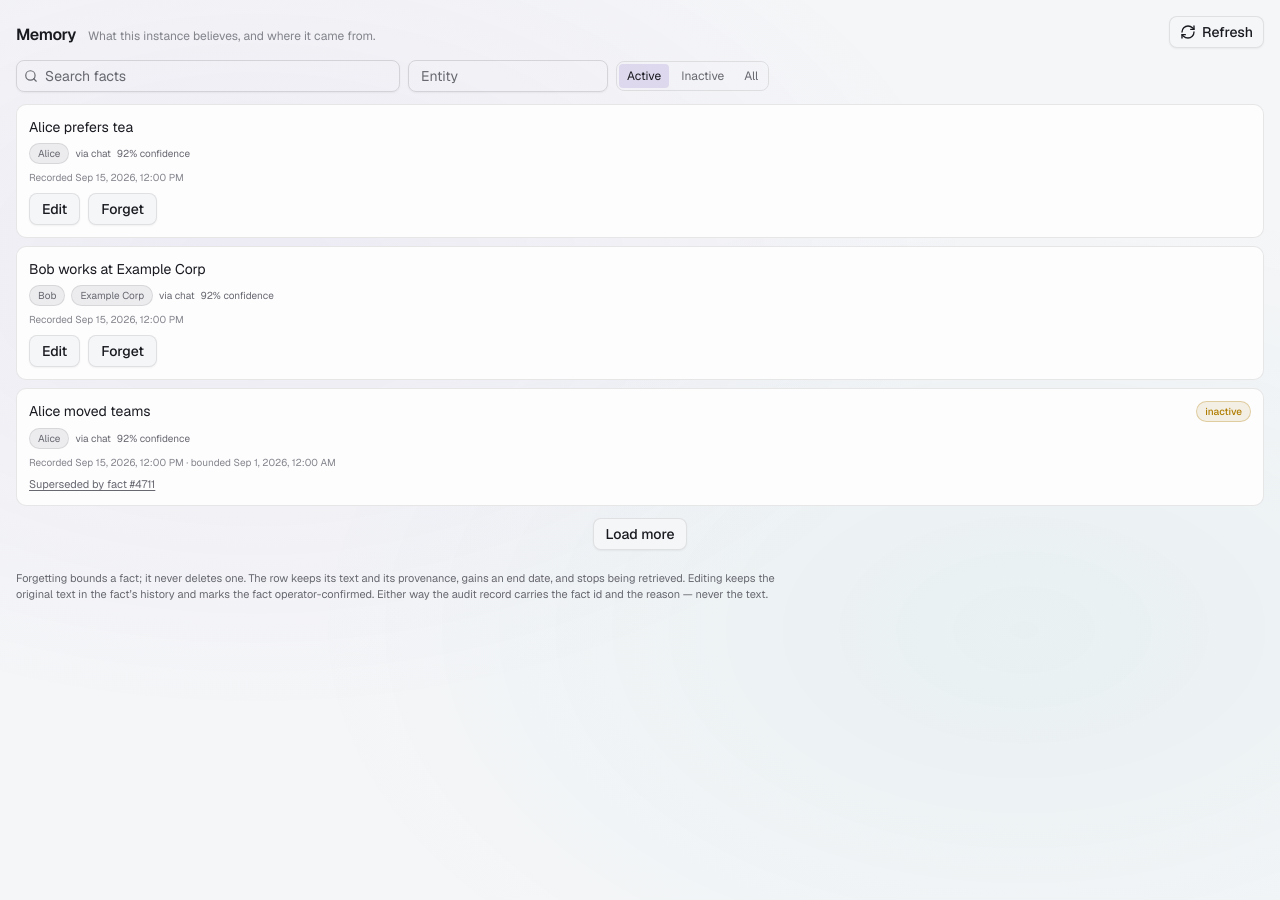
Observe › Memory › previews a forget before it happens, and warns about the blocks that quote it
This screenshot has width=1280, height=900.
Expected: the element with test id "memory-fact-4711" is shown, [16, 104, 1264, 238]
Click the button with test id "memory-forget-4711".
click(123, 209)  # box [88, 193, 157, 225]
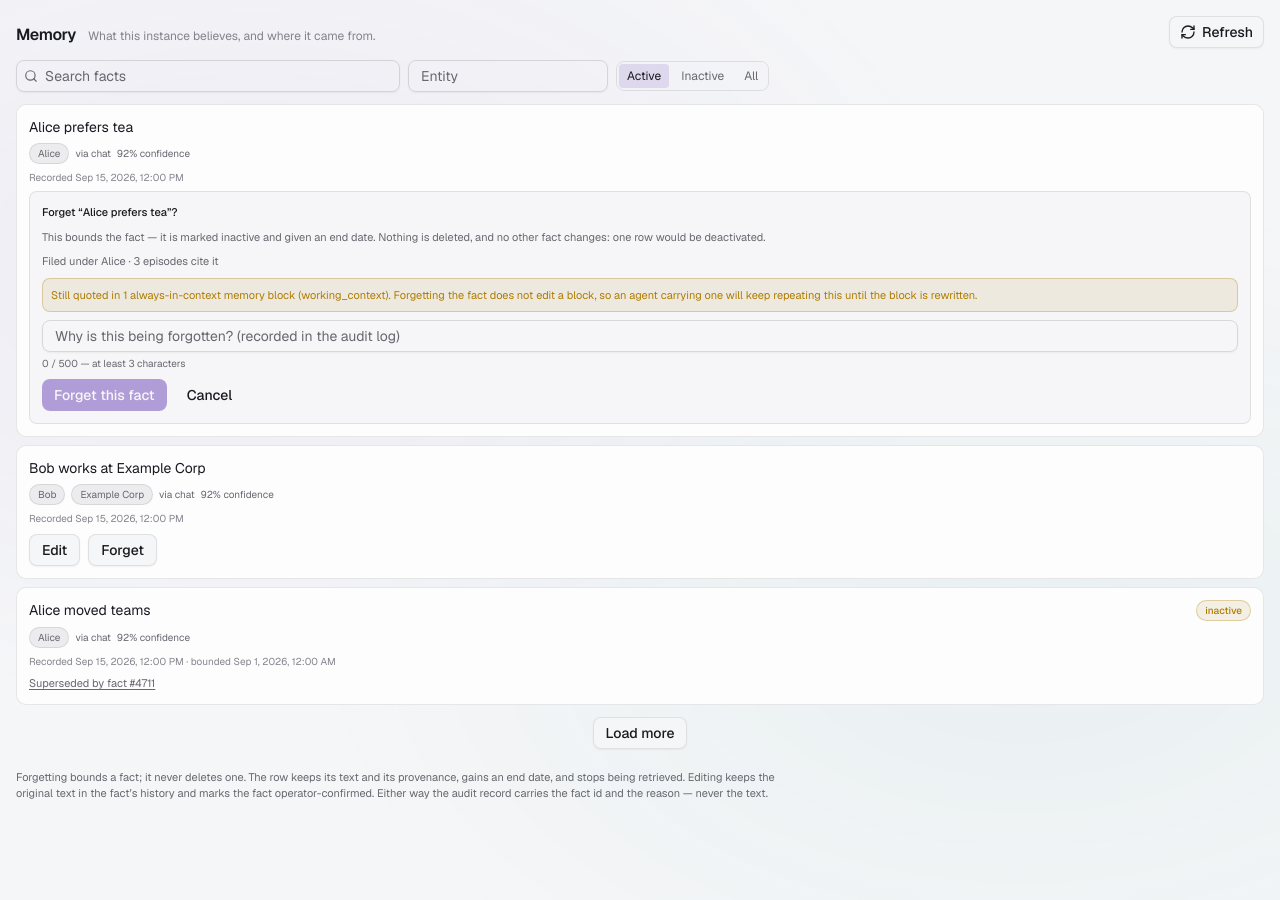
Expected: the element with test id "memory-confirm-4711" shows "Alice prefers tea", [83, 205, 167, 219]
Expected: the element with test id "memory-confirm-4711" shows "3", [133, 254, 140, 268]
Expected: the text with test id "memory-blocks-warning-4711" shows "working_context", [301, 288, 386, 302]
